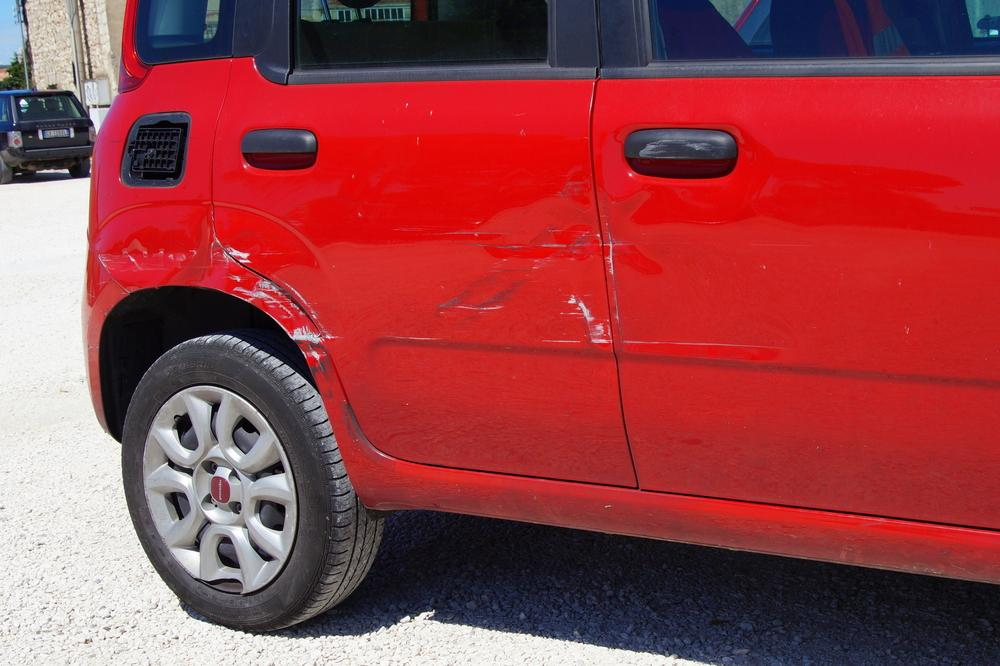dent: (100, 221, 195, 284)
scratch: (354, 176, 623, 357), (219, 242, 334, 383)
